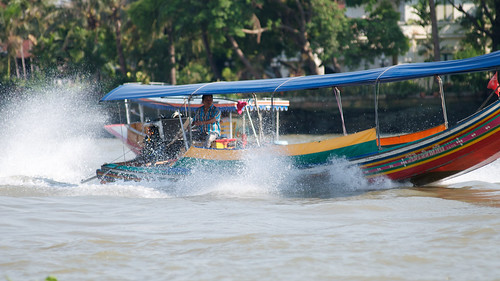boat: (97, 53, 500, 192)
river: (2, 176, 500, 281)
vegetation: (1, 1, 401, 62)
